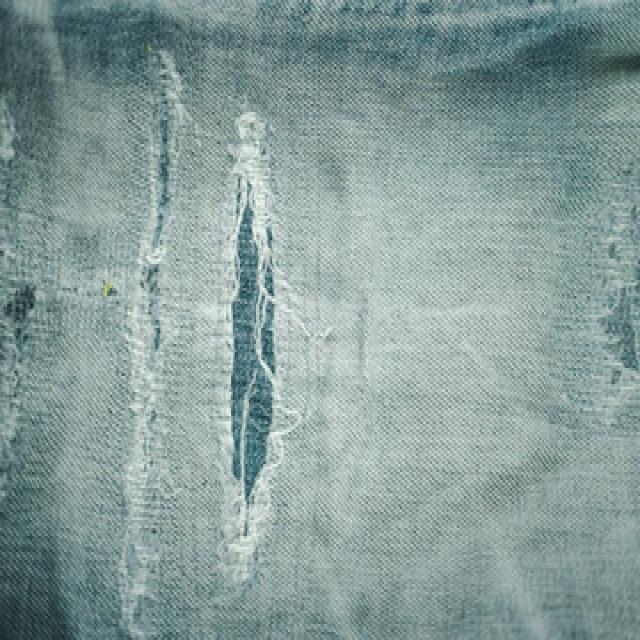Hole: (124, 91, 177, 560), (231, 204, 275, 506), (593, 199, 640, 432), (0, 269, 35, 401), (0, 97, 14, 160)
